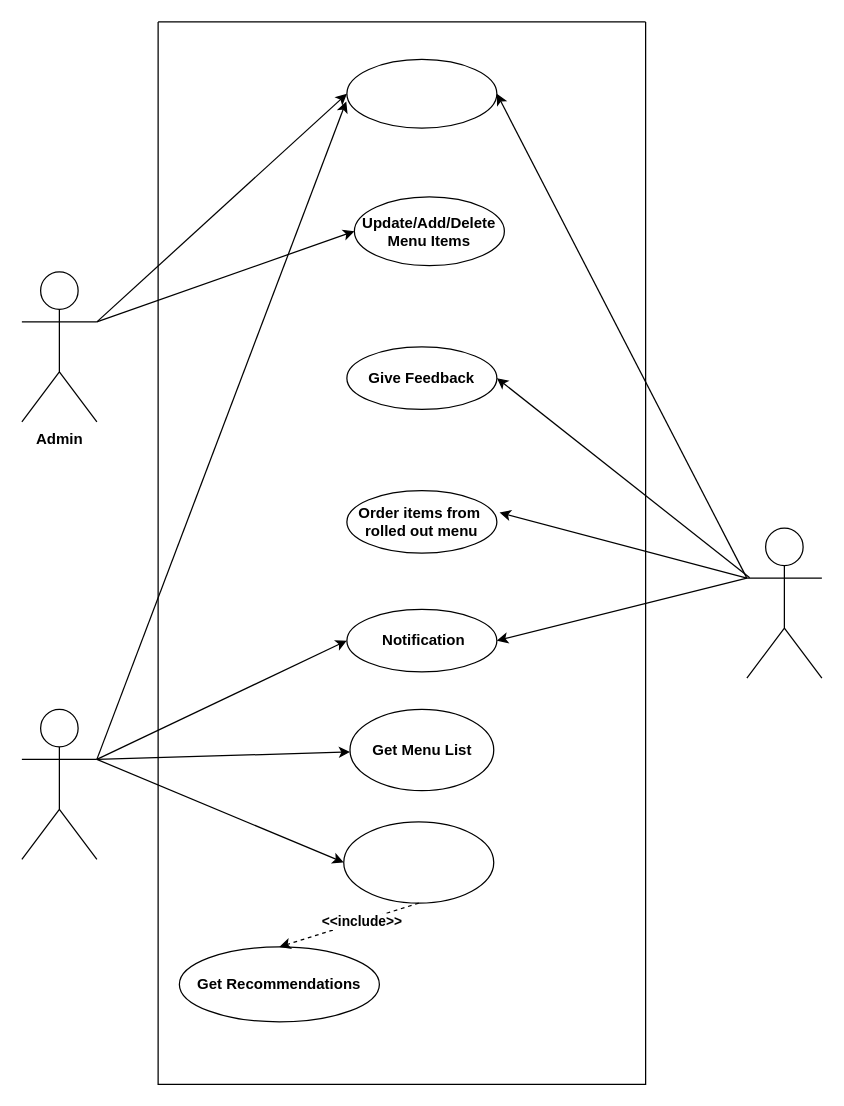
Image size: 844x1106. Some labels were removed from this diagram. The centre of each missing label's shape, as x and y in pixels:
Chef: [59,783]
Employee: [784,602]
Login/Authentication: [421,93]
Roll Out Daily Menu: [418,862]
